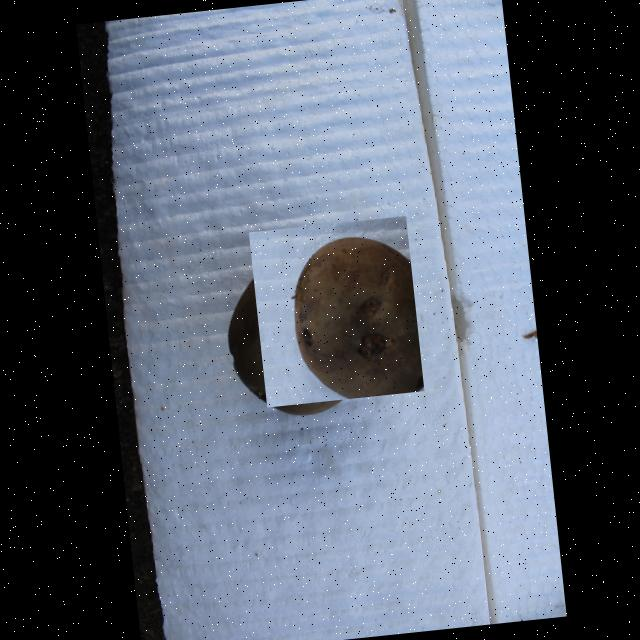Diseased-fungal potato: (247, 215, 423, 408)
